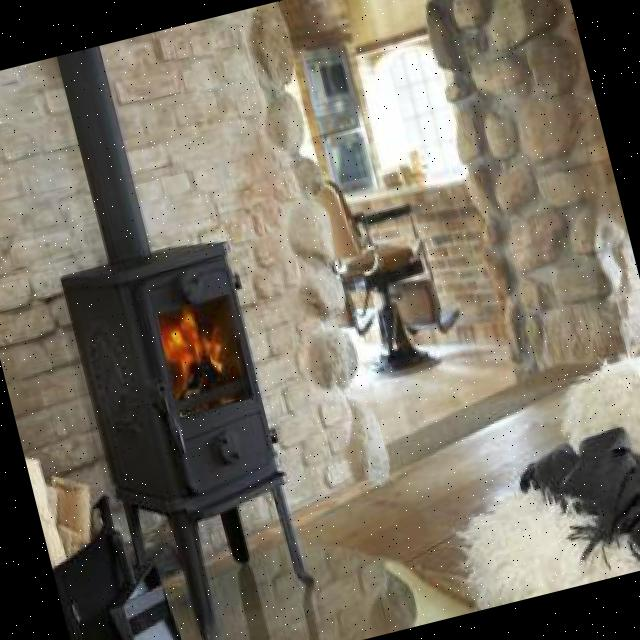fire: (150, 289, 260, 416)
